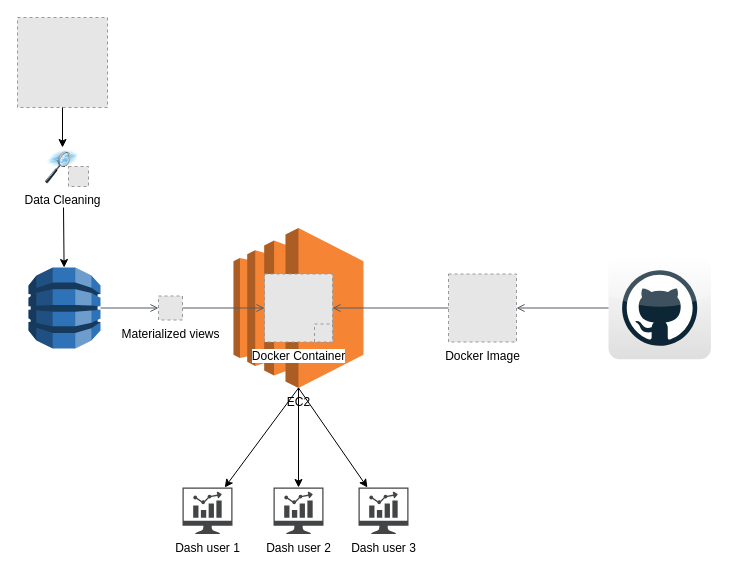
The diagram is 729 pixels wide and 572 high, and some of its shapes have lost their labels. Grey dashed boxes stand in for pictures. Here are the shapes that lost their labels. From the top down, the centre of each, then its label:
(64,307): PostgreSQL
(659,307): Github
